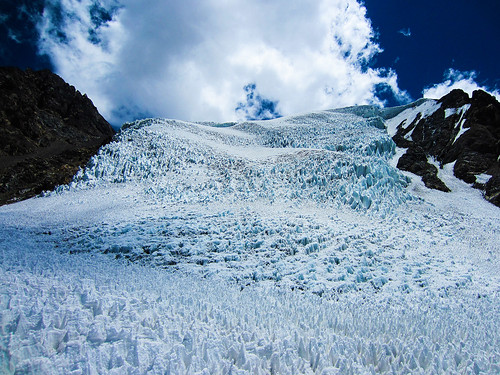mountain: (1, 31, 117, 126), (391, 80, 500, 151)
sky: (10, 1, 500, 98)
